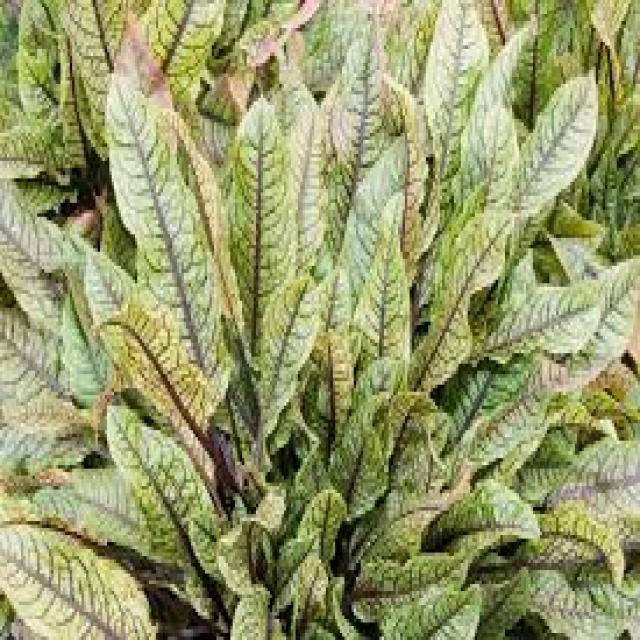organic waste: (11, 10, 640, 639)
